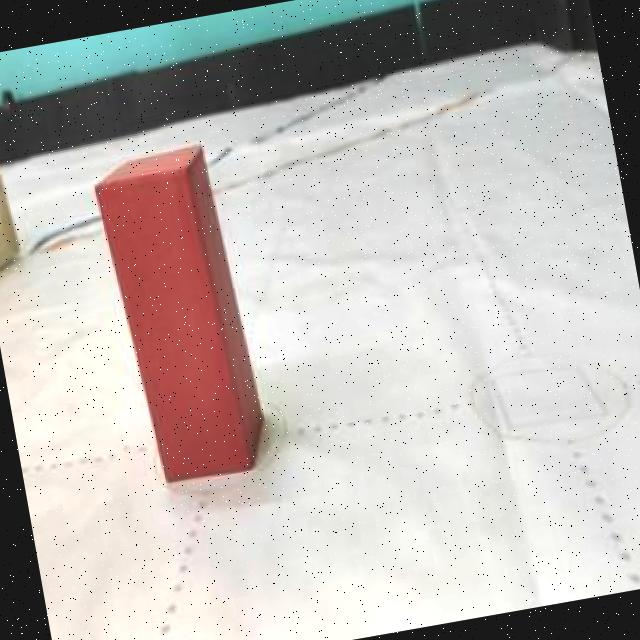redbox: (88, 140, 271, 488)
